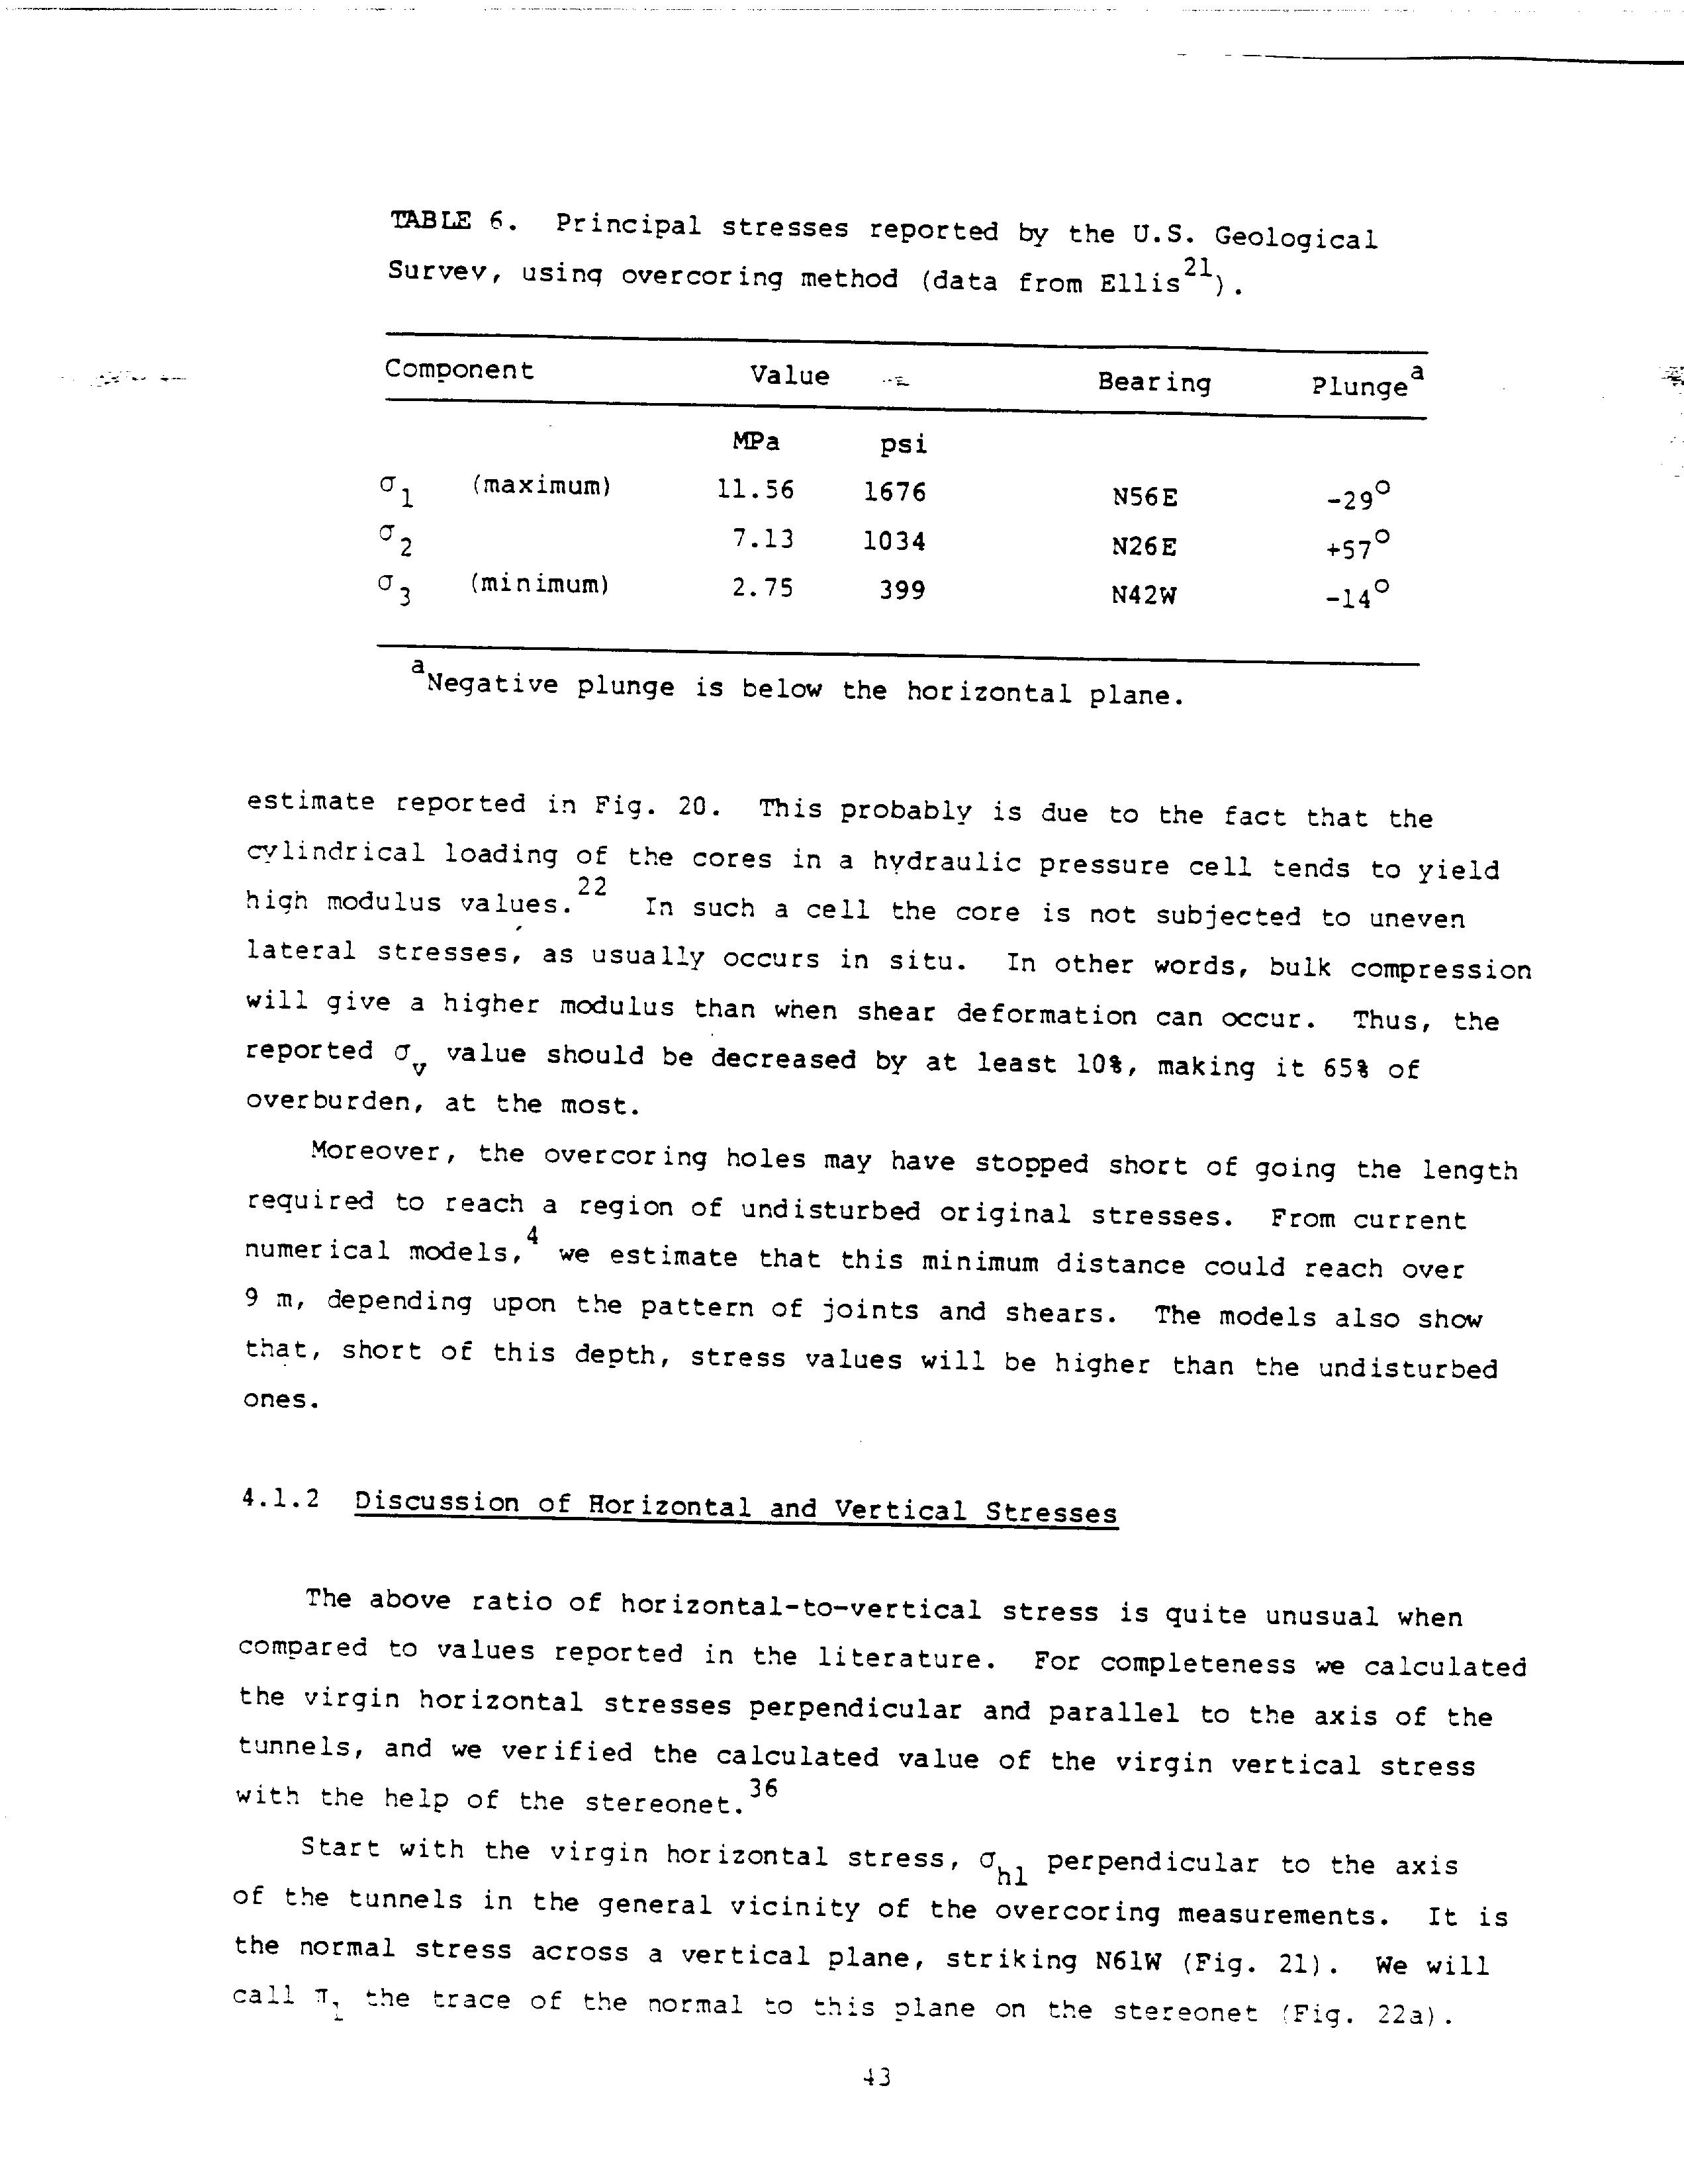borderless: (371, 205, 1435, 722)
